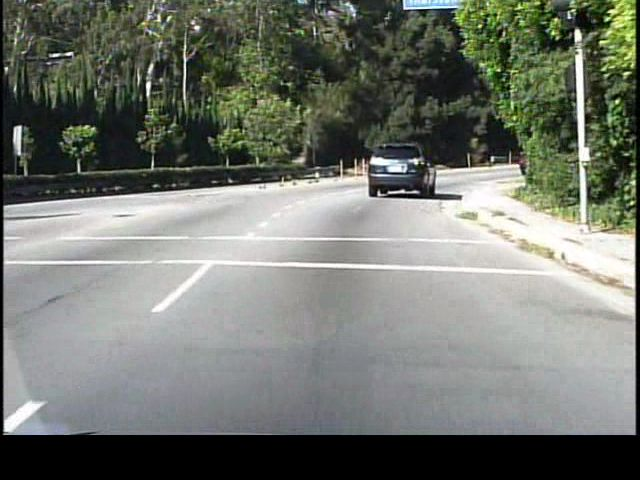car: (366, 136, 443, 201)
strada: (32, 204, 618, 431)
